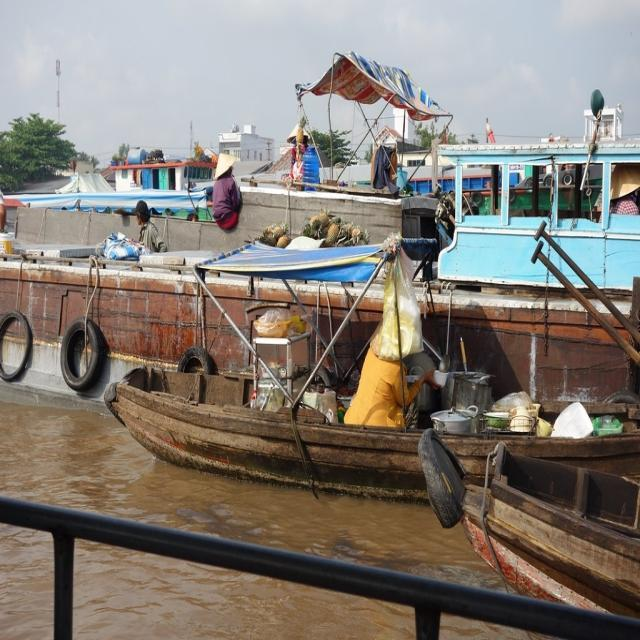boat: (0, 242, 640, 414), (104, 363, 620, 507)
